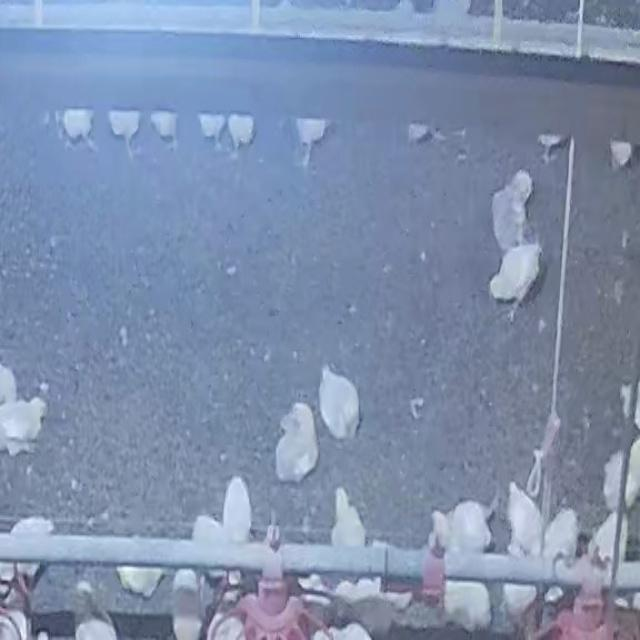chicken: (487, 240, 544, 322), (271, 401, 317, 486), (430, 498, 491, 554), (320, 359, 361, 442), (67, 577, 121, 640), (0, 394, 51, 458), (8, 515, 56, 582), (502, 476, 540, 558), (599, 437, 640, 508), (440, 580, 498, 629), (330, 486, 364, 550), (167, 570, 199, 638), (223, 468, 252, 542), (594, 514, 631, 566), (544, 508, 578, 564)
